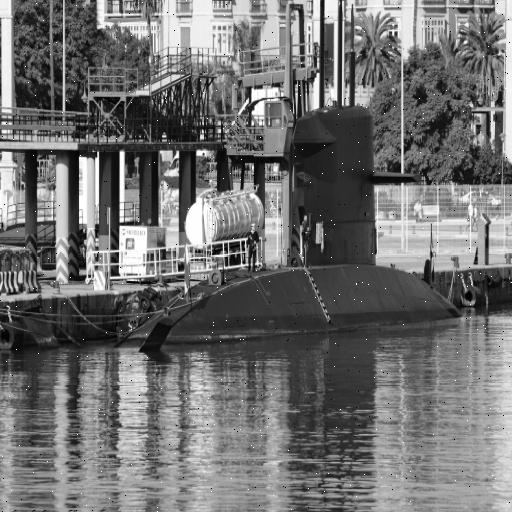submarine: (121, 1, 473, 352)
